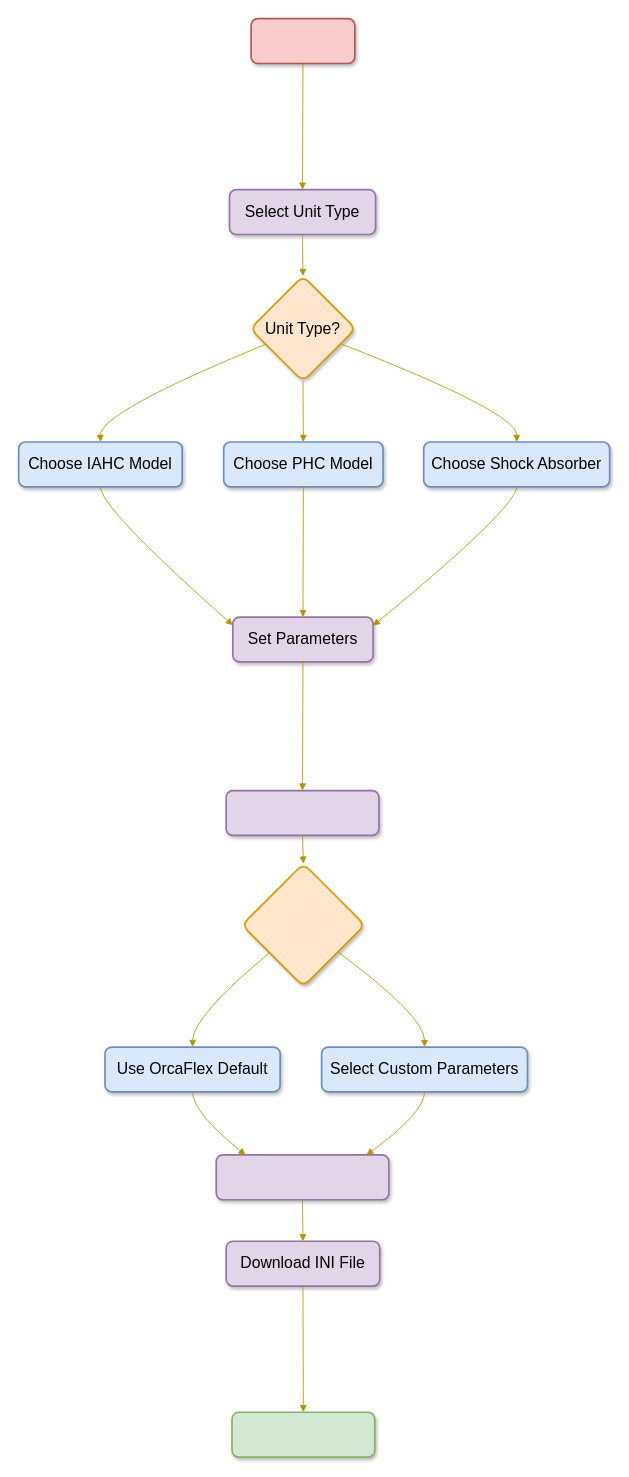
The diagram is 629 pixels wide and 1477 high, and some of its shapes have lost their labels. The shapes that lost their labels are listed below. From the top down, each one's centre as x and y in pixels, then its label:
At (303,42): "Welcome".
At (303,814): "Configure Results".
At (303,926): "Results Type?".
At (303,1178): "Export Configuration".
At (303,1435): "Use in OrcaFlex".
